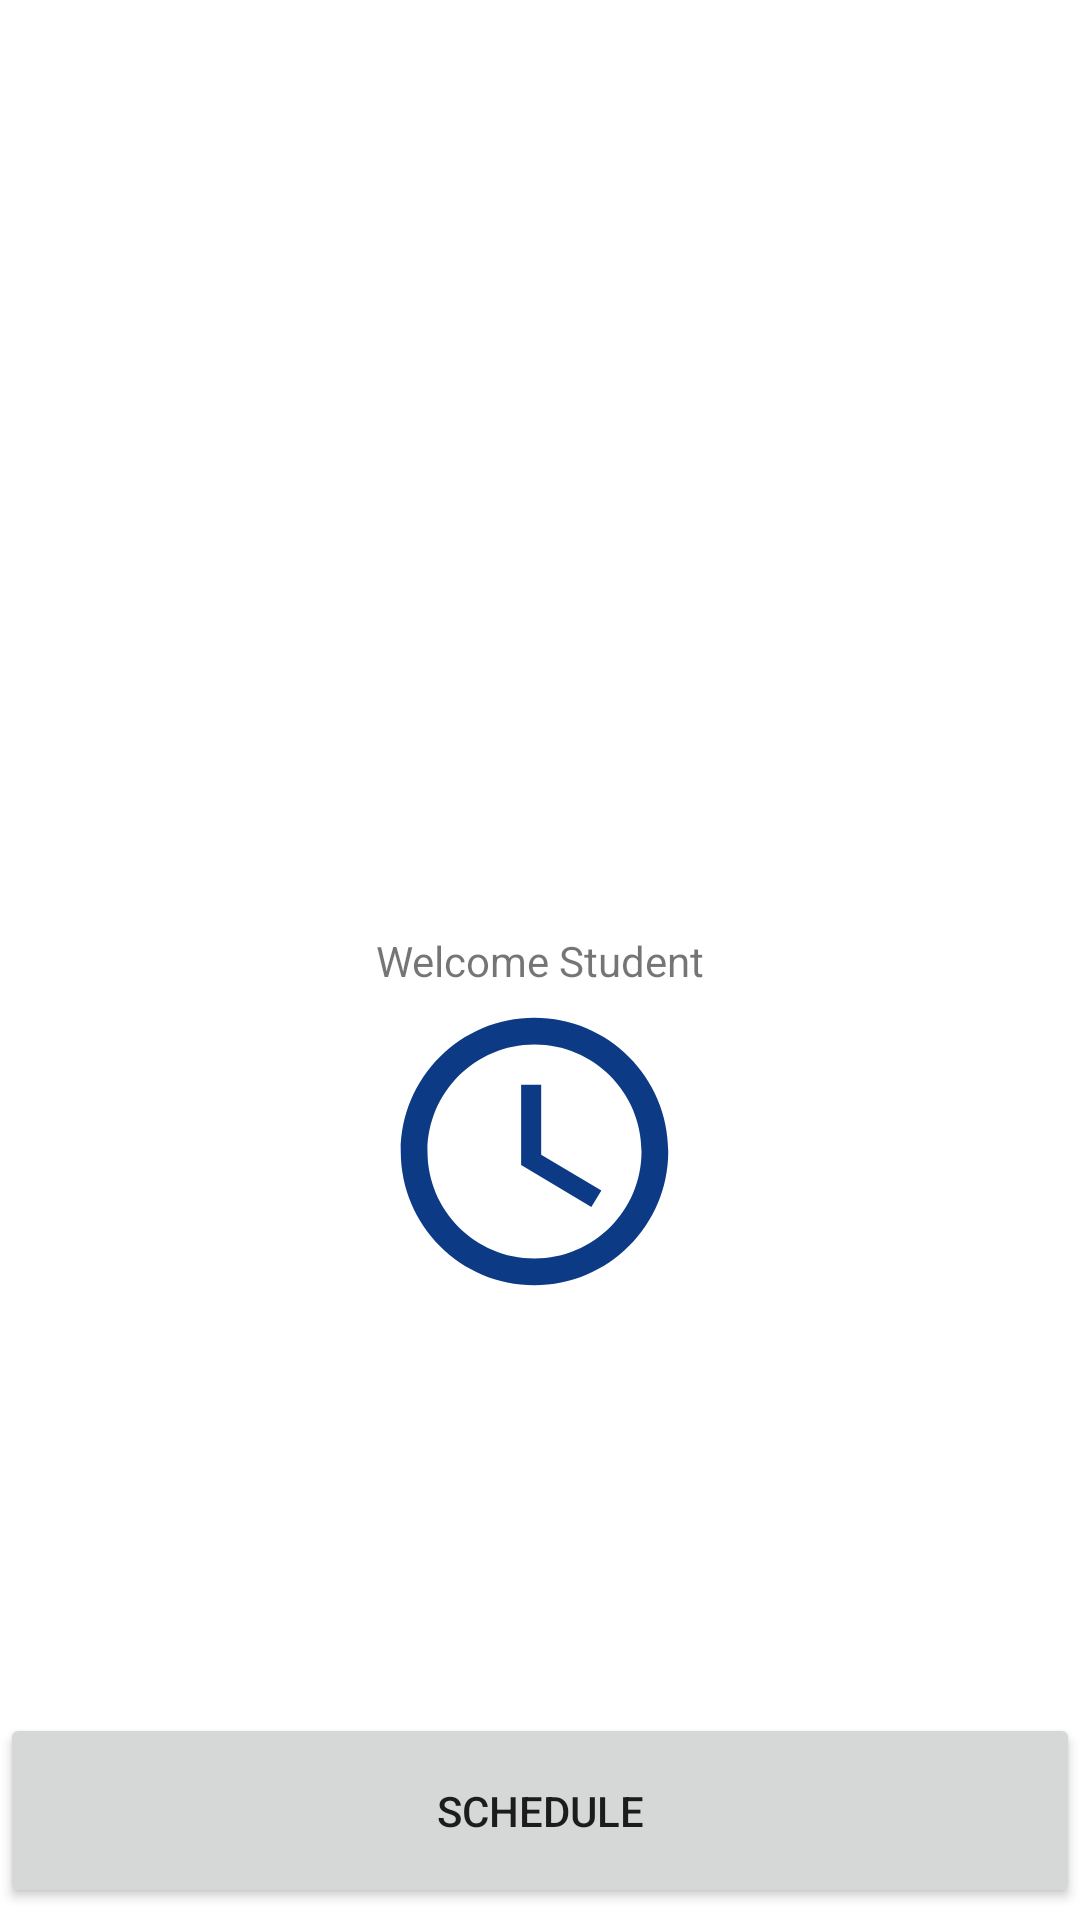

Where icons sit on this 1080*1920 app screen, as [x1, y1, x2, y2]:
schedule: [400, 1017, 669, 1286]
